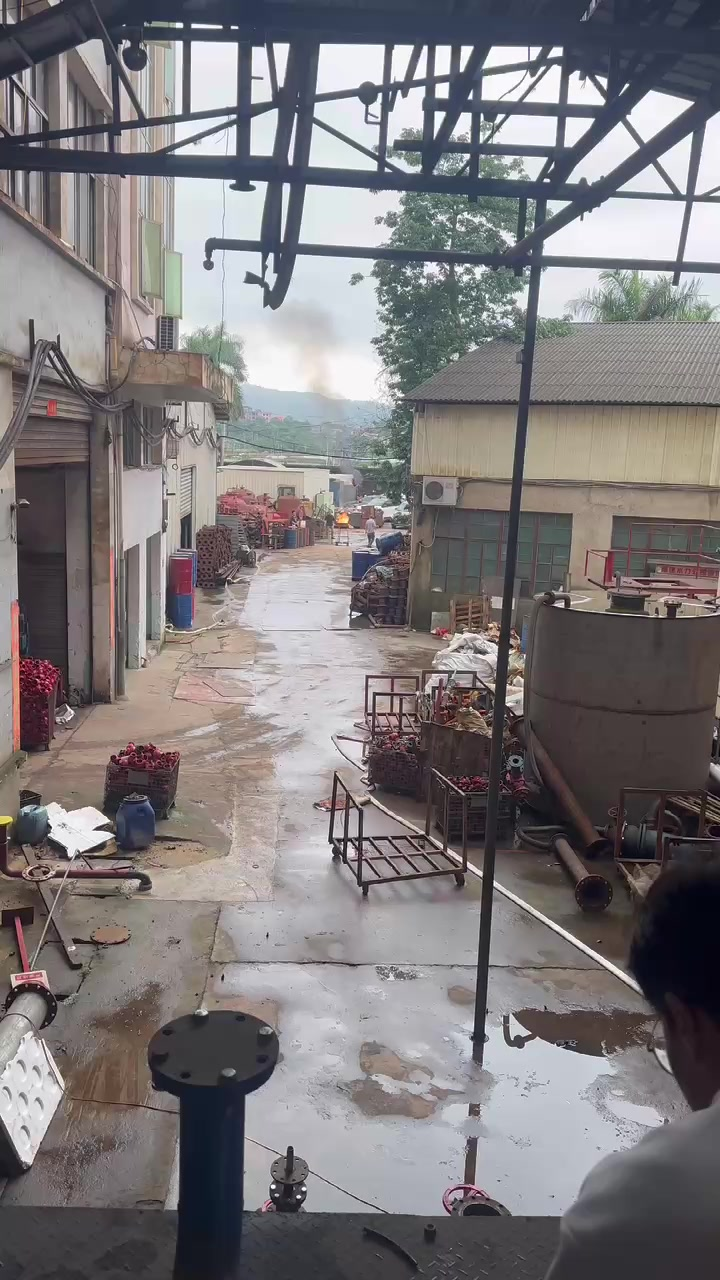fire: (336, 511, 348, 523)
